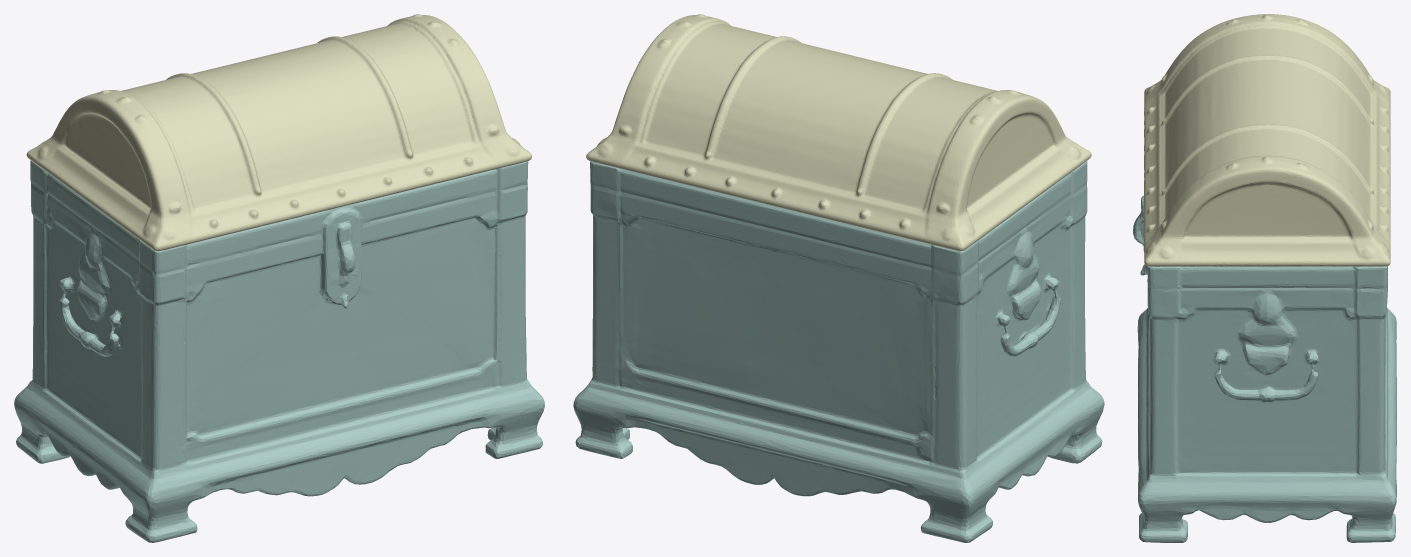
File: wooden_chest.glb
The picture shows the model from 3 angles, left to right: view 1: azimuth 30°, elevation 25°; view 2: azimuth 150°, elevation 25°; view 3: azimuth 270°, elevation 25°; orthographic projection. The views are drawn at different scales.
Visible parts, largest first — view 1: wooden_chest_2.obj, wooden_chest_2.obj_1; view 2: wooden_chest_2.obj, wooden_chest_2.obj_1; view 3: wooden_chest_2.obj, wooden_chest_2.obj_1.
Part boxes in pixels (x1,y1,x2,y2): wooden_chest_2.obj: (14,160,544,542); wooden_chest_2.obj_1: (26,14,531,251); wooden_chest_2.obj: (573,161,1104,542); wooden_chest_2.obj_1: (586,14,1091,251); wooden_chest_2.obj: (1133,195,1396,542); wooden_chest_2.obj_1: (1144,14,1390,266).
Bounding box in the file's own units: 1.84 × 1.71 × 1.12.
